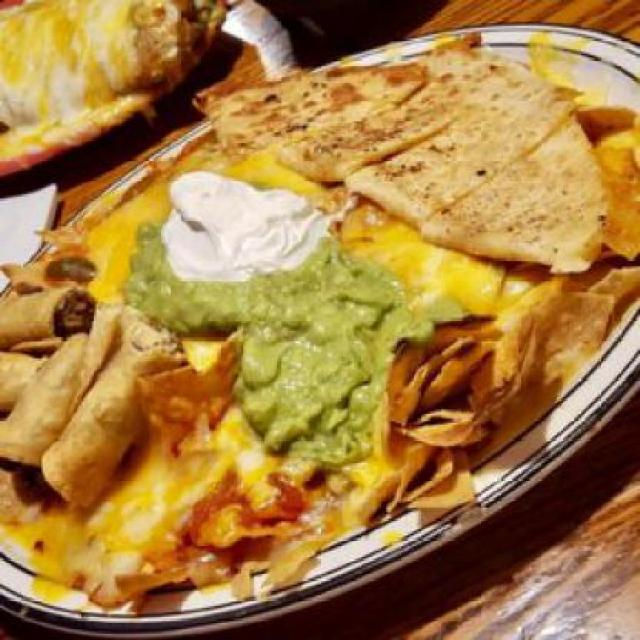chicken quesadilla: (199, 28, 610, 269)
guacamole: (118, 222, 390, 429)
nachos: (2, 96, 632, 615)
